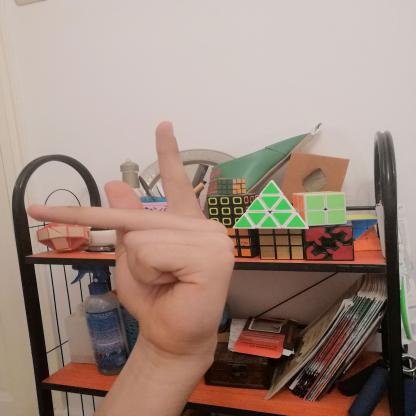DHAA: (13, 111, 250, 367)
